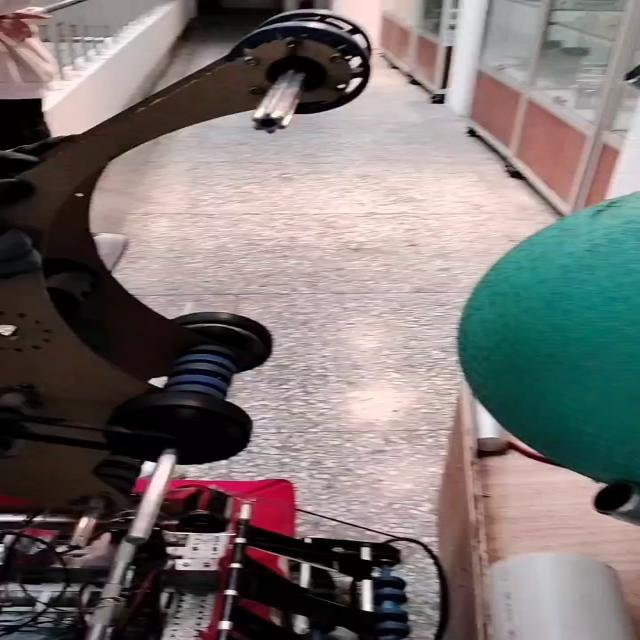ALGAE: (457, 184, 640, 485)
